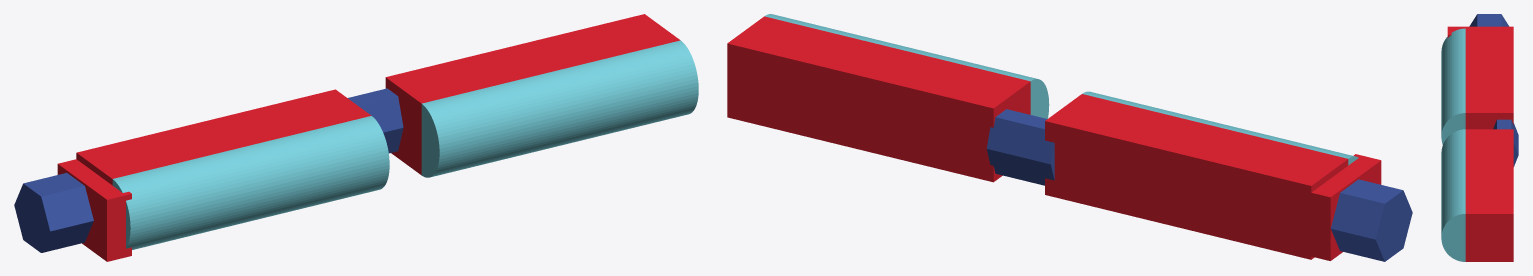
File: tinker.obj
The picture shows the model from 3 angles, left to right: view 1: azimuth 30°, elevation 25°; view 2: azimuth 150°, elevation 25°; view 3: azimuth 270°, elevation 25°; orthographic projection. The views are drawn at different scales.
Visible parts, largest first — view 1: group_0_7720667, group_0_15277357, group_0_3888547; view 2: group_0_15277357, group_0_3888547, group_0_7720667; view 3: group_0_15277357, group_0_7720667, group_0_3888547.
Boxes of the visible parts, x1,y1,x2,y2 form: group_0_7720667: (112, 40, 698, 249); group_0_15277357: (57, 14, 680, 261); group_0_3888547: (14, 88, 403, 252); group_0_15277357: (727, 16, 1381, 260); group_0_3888547: (986, 109, 1412, 261); group_0_7720667: (764, 14, 1358, 165); group_0_15277357: (1447, 26, 1513, 261); group_0_7720667: (1441, 28, 1465, 261); group_0_3888547: (1469, 14, 1518, 166).
Bounding box in the file's own units: 202 × 22 × 32.01.
